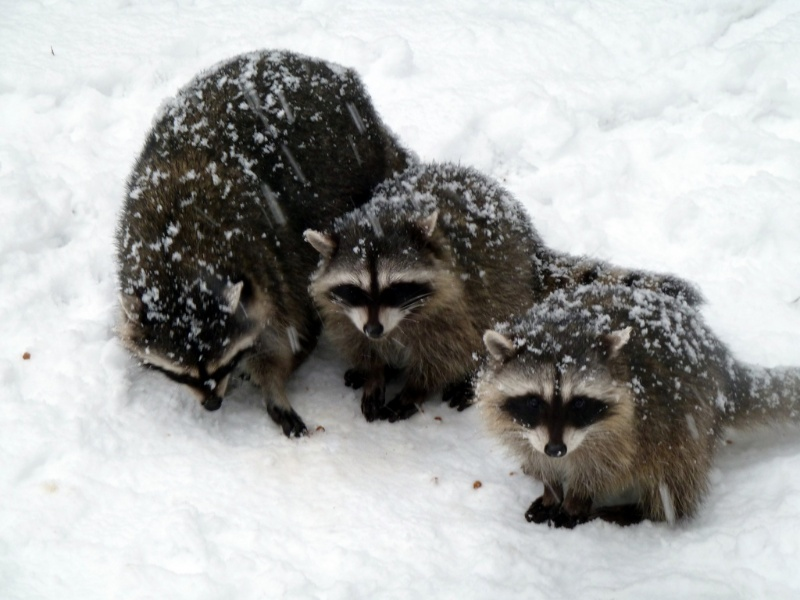raccoon: (113, 46, 405, 442), (293, 160, 706, 422), (479, 270, 799, 535)
